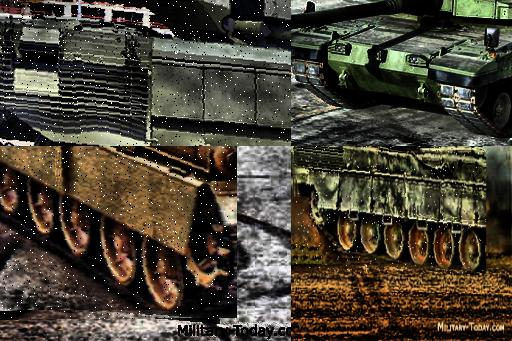tanks: (1, 1, 292, 147), (1, 147, 237, 320), (292, 1, 512, 137), (295, 147, 486, 274)
